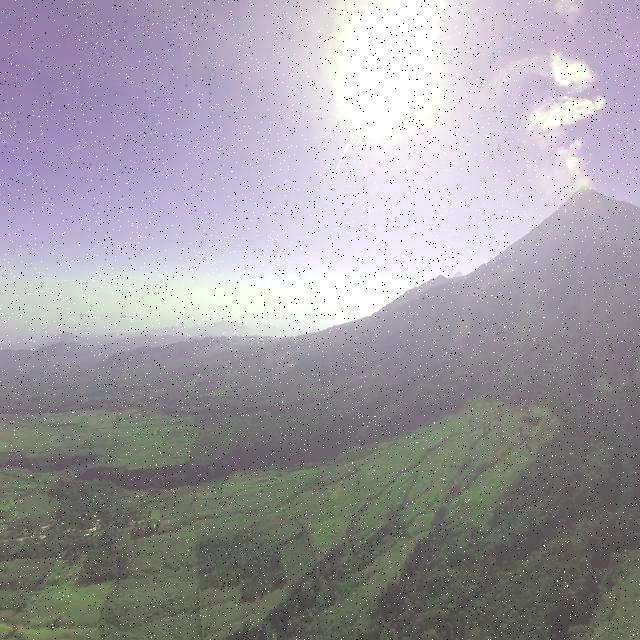Plume: (525, 94, 607, 132), (554, 134, 596, 196), (546, 49, 597, 92)
Summit: (565, 180, 602, 207)
